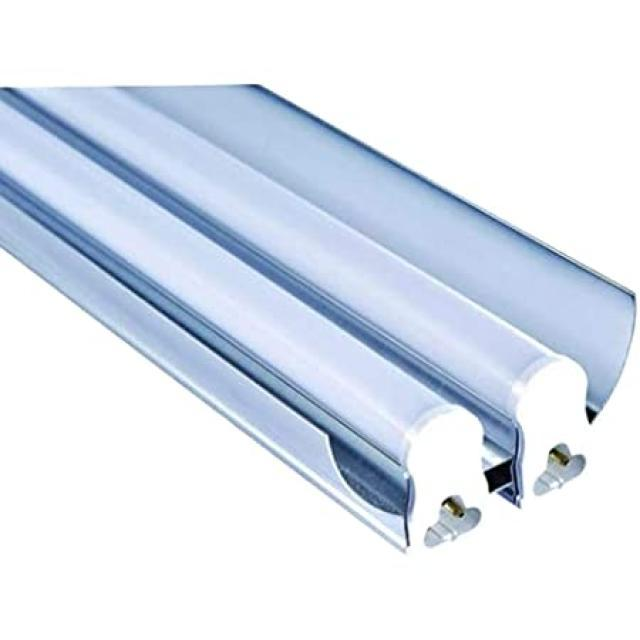tubelight_off: (4, 85, 604, 446), (0, 96, 501, 493)
